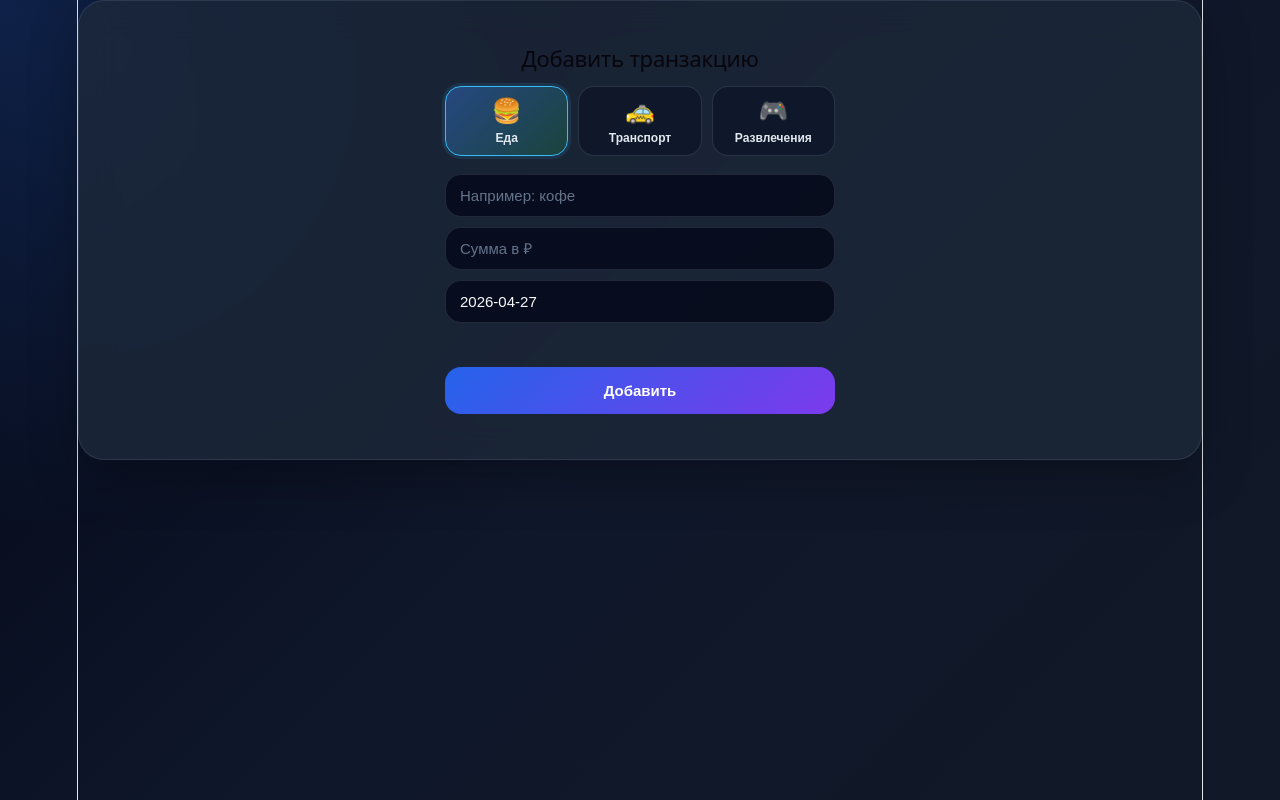
Scenario: AddTransaction Component › показывает ошибку, если название не заполнено
Click the button "Добавить".
click(640, 390)  # box left=445, top=367, right=835, bottom=414
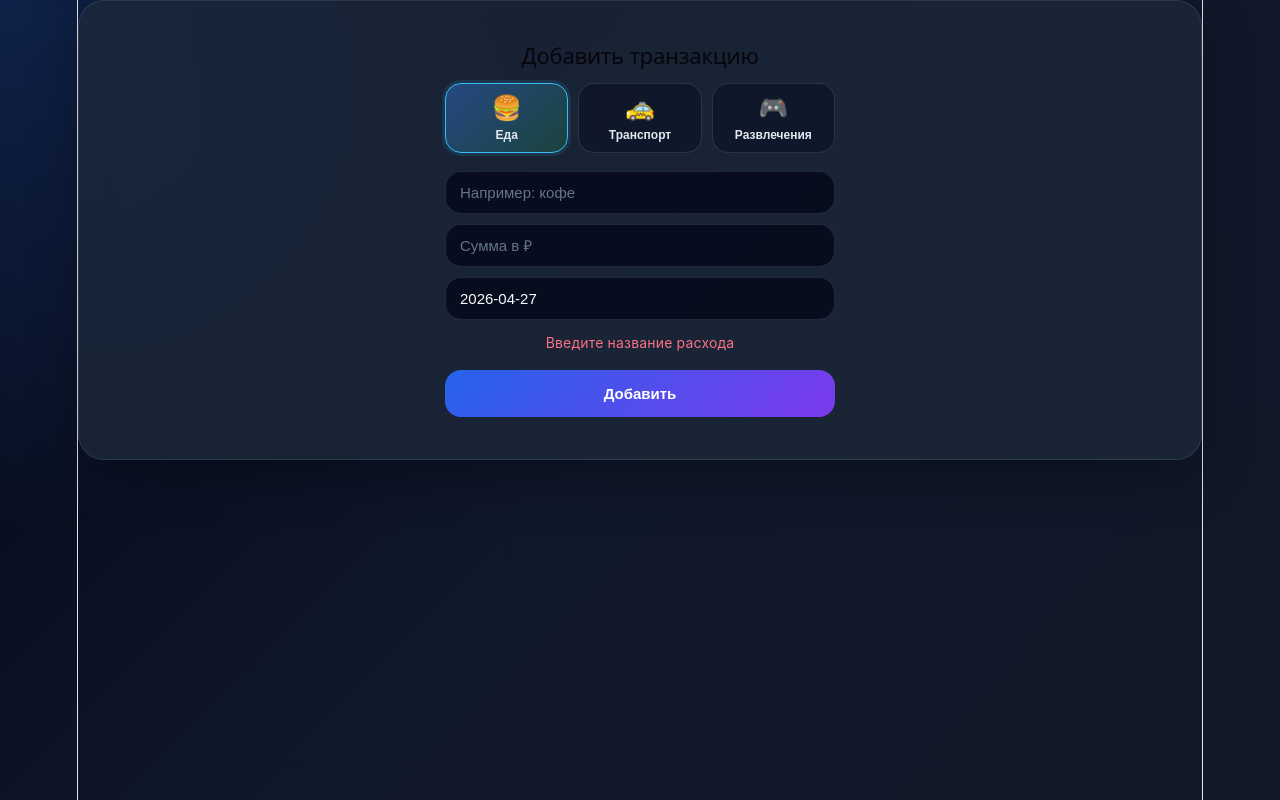
Expected: the text "Введите название расхода" is shown, left=546, top=334, right=734, bottom=351
